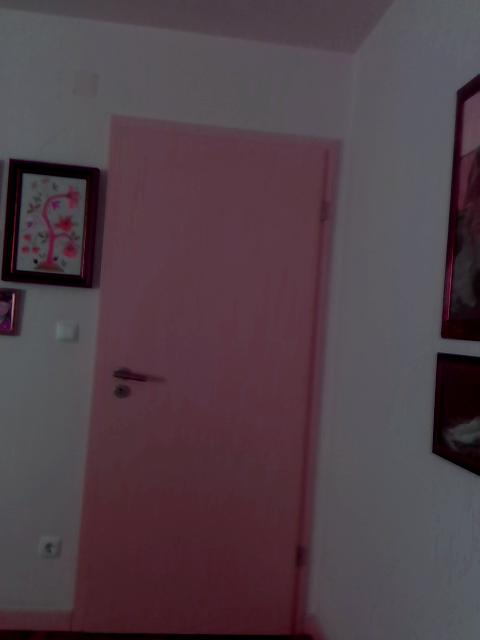closed_door: (70, 112, 344, 639)
